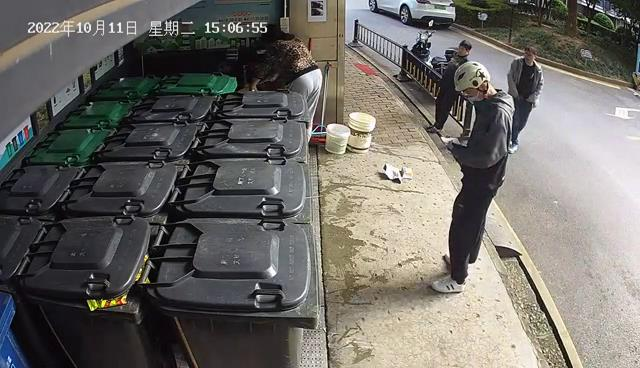person: (428, 38, 520, 296), (241, 25, 325, 155), (504, 43, 547, 156)
zhizhipin: (381, 160, 403, 186), (400, 163, 414, 181)
